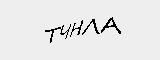А: (100, 15, 123, 35)
Л: (83, 17, 100, 36)
Н: (71, 19, 83, 39)
Т: (42, 27, 59, 44)
Ч: (59, 23, 72, 39)
